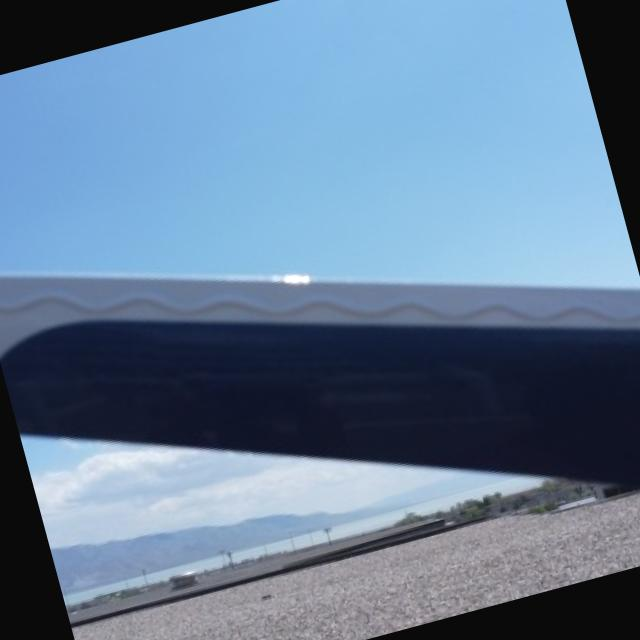healthy: (0, 273, 640, 481)
